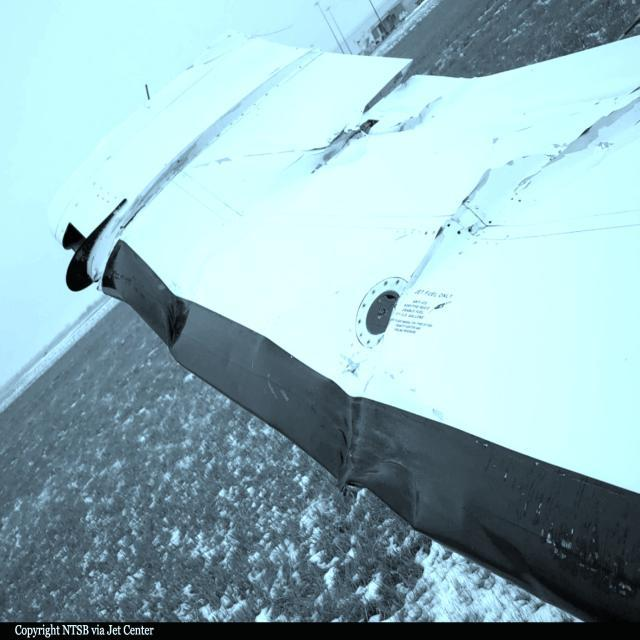crack: (312, 56, 442, 173), (518, 95, 640, 197)
